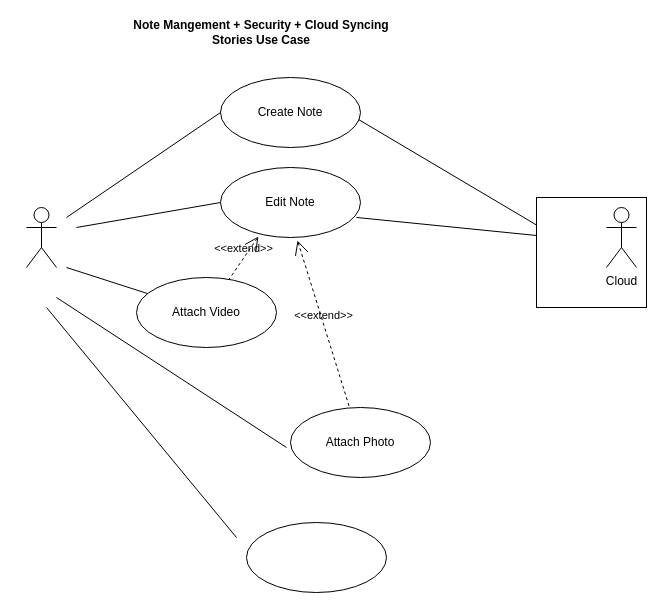
Image size: 664x610. Some labels were removed from this diagram. The shapes that lost their labels are listed below. From the top down, each one's box as (x1, y1, x2, y2) in pixels, then its label:
(26, 206, 56, 268): App user
(246, 522, 386, 592): Protected note with password
